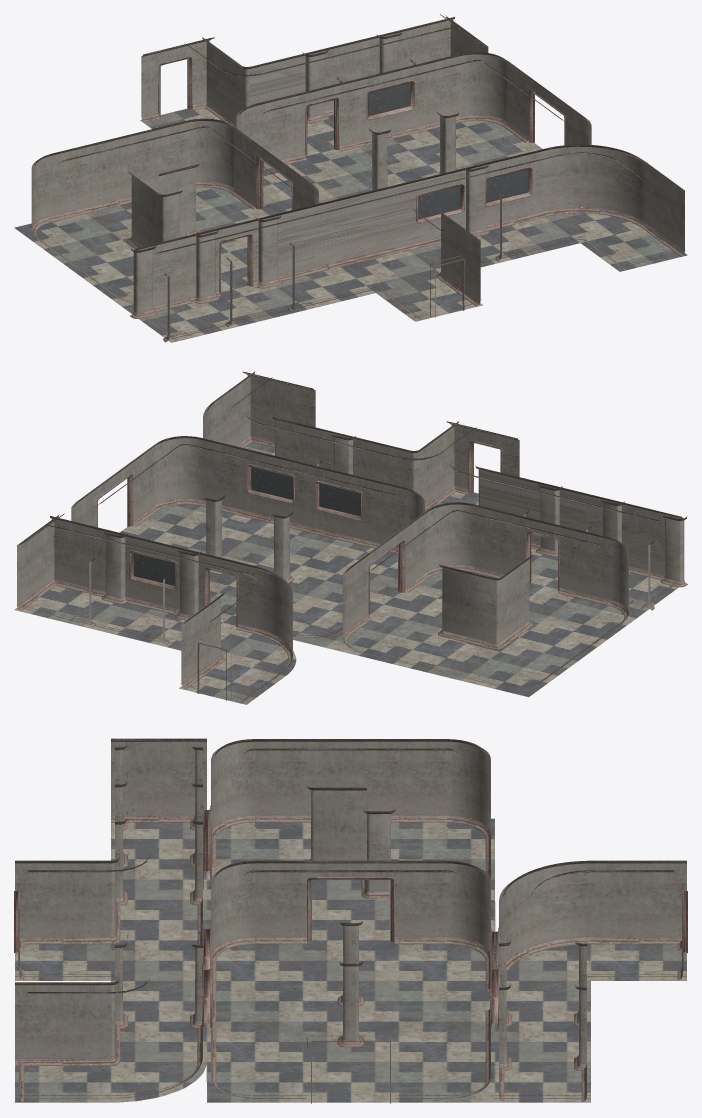
Rendered from bunker.room.21.adb.glb.
3 renders of one model, top to bottom at view 1: azimuth 30°, elevation 25°; view 2: azimuth 150°, elevation 25°; view 3: azimuth 270°, elevation 25°, orthographic. The views are drawn at different scales.
Parts seen in each view (by area): view 1: bunker.room.21.ad_LOD0; view 2: bunker.room.21.ad_LOD0; view 3: bunker.room.21.ad_LOD0.
Boxes of the visible parts, bbox=[...] form: bunker.room.21.ad_LOD0: bbox=[14, 14, 687, 342]; bunker.room.21.ad_LOD0: bbox=[14, 371, 687, 704]; bunker.room.21.ad_LOD0: bbox=[14, 738, 687, 1103].
Size of the model in its own units: 21.2 by 3.02 by 21.06.
5 materials, 5 textured.
